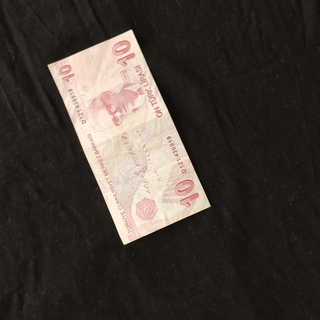10TLBack: (46, 27, 213, 246)
